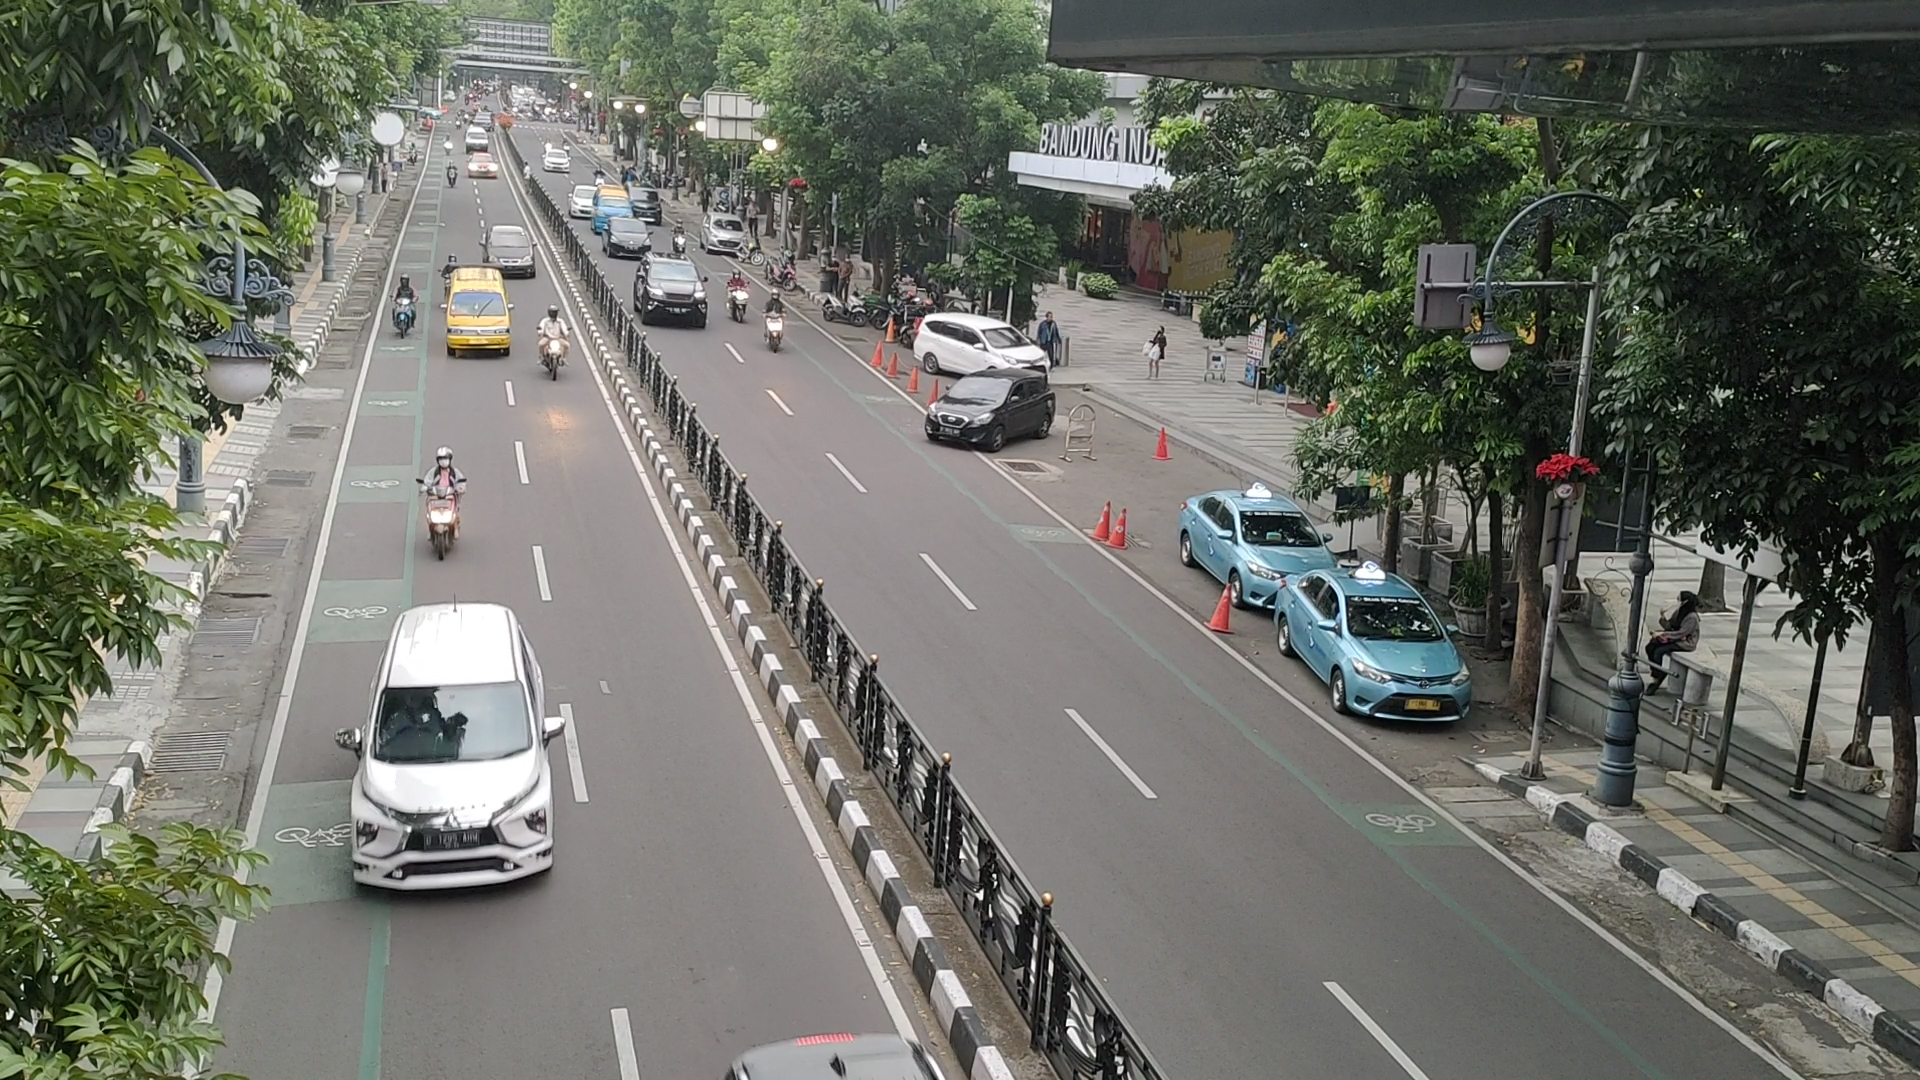mobil: (343, 673, 564, 891), (1337, 593, 1469, 728), (920, 367, 1015, 454), (442, 280, 513, 364), (975, 316, 1060, 381), (641, 255, 709, 328)
motor: (409, 440, 475, 574), (531, 305, 575, 384)
